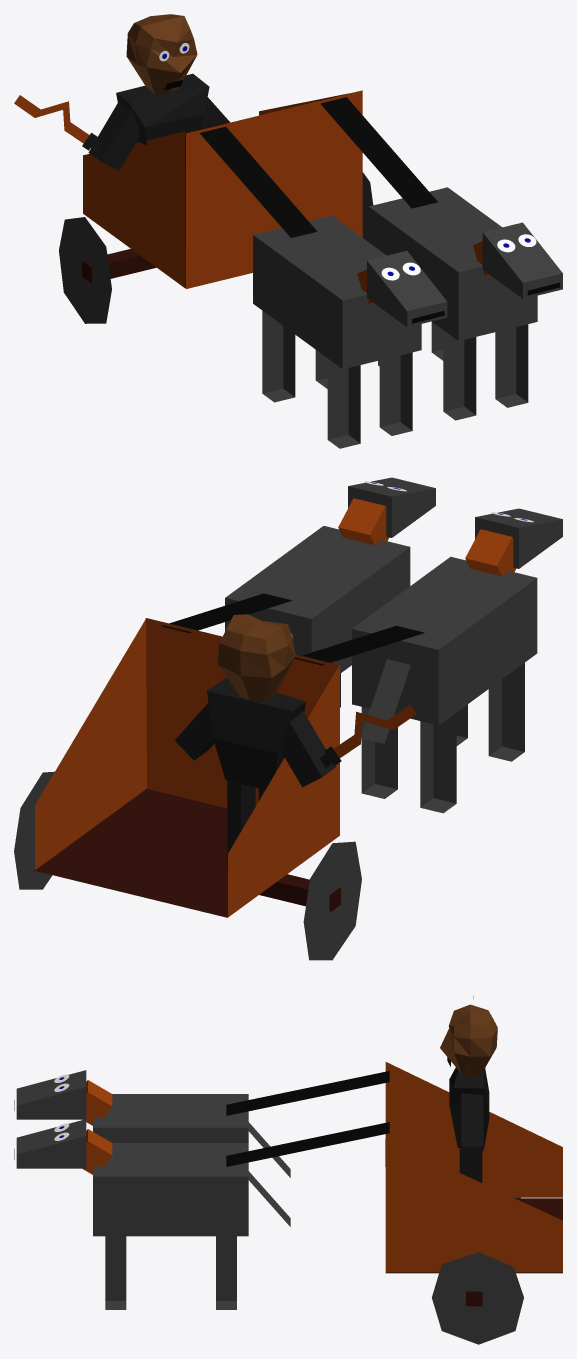
File: heavychariot2fr.obj
The picture shows the model from 3 angles, top to bottom: view 1: azimuth 30°, elevation 25°; view 2: azimuth 150°, elevation 25°; view 3: azimuth 270°, elevation 25°; orthographic projection. The views are drawn at different scales.
Visible parts, largest first — view 1: Plane.005_Plane.006, Cube.015_Cube.017, Cube.006_Cube.009, Plane.003, Plane.007_Plane.008, Cube, Cube.001, Cube.014_Cube.016, Cube.021_Cube.023, Plane.012_Plane.013, Plane.013_Plane.014, Cube.019_Cube.021 (+7 smaller); view 2: Cube.015_Cube.017, Plane.002, Plane.004, Cube.006_Cube.009, Plane.005_Plane.006, Plane.003, Cube.001, Cube, Plane.007_Plane.008, Cube.016_Cube.018, Cube.019_Cube.021, Cube.014_Cube.016 (+13 smaller); view 3: Plane.004, Cube.006_Cube.009, Plane.003, Cube.015_Cube.017, Plane.006_Plane.007, Cube, Cube.014_Cube.016, Cube.021_Cube.023, Plane.013_Plane.014, Plane.012_Plane.013, Cube.011_Cube.013, Cube.001 (+6 smaller).
Part boxes in pixels (box(x1,y1,x2,y2)): Plane.005_Plane.006: box(186, 90, 362, 288); Cube.015_Cube.017: box(253, 215, 421, 369); Cube.006_Cube.009: box(368, 187, 537, 340); Plane.003: box(83, 131, 184, 287); Plane.007_Plane.008: box(59, 217, 111, 323); Cube: box(126, 14, 197, 94); Cube.001: box(116, 73, 209, 167); Cube.014_Cube.016: box(482, 222, 562, 298); Cube.021_Cube.023: box(367, 251, 447, 327); Plane.012_Plane.013: box(197, 123, 317, 237); Plane.013_Plane.014: box(318, 94, 437, 208); Cube.019_Cube.021: box(327, 358, 360, 448); Cube.015_Cube.017: box(352, 556, 537, 725); Plane.002: box(33, 789, 227, 917); Plane.004: box(35, 619, 146, 869); Cube.006_Cube.009: box(225, 526, 410, 673); Plane.005_Plane.006: box(145, 618, 338, 808); Plane.003: box(228, 664, 339, 917); Cube.001: box(207, 677, 305, 789); Cube: box(218, 614, 295, 701); Plane.007_Plane.008: box(303, 841, 361, 960); Cube.016_Cube.018: box(420, 713, 456, 813); Cube.019_Cube.021: box(488, 662, 524, 761); Cube.014_Cube.016: box(348, 477, 435, 537); Plane.004: box(385, 1138, 562, 1272); Cube.006_Cube.009: box(93, 1143, 248, 1236); Plane.003: box(385, 1062, 562, 1197); Cube.015_Cube.017: box(93, 1094, 248, 1142); Plane.006_Plane.007: box(431, 1252, 523, 1344); Cube: box(440, 1004, 497, 1077); Cube.014_Cube.016: box(16, 1119, 86, 1168); Cube.021_Cube.023: box(16, 1070, 86, 1119); Plane.013_Plane.014: box(226, 1122, 389, 1166); Plane.012_Plane.013: box(226, 1071, 389, 1115); Cube.011_Cube.013: box(105, 1236, 126, 1309); Cube.001: box(449, 1067, 489, 1147).
Size of the model in its own units: 9.26 by 7.5 by 14.9.
